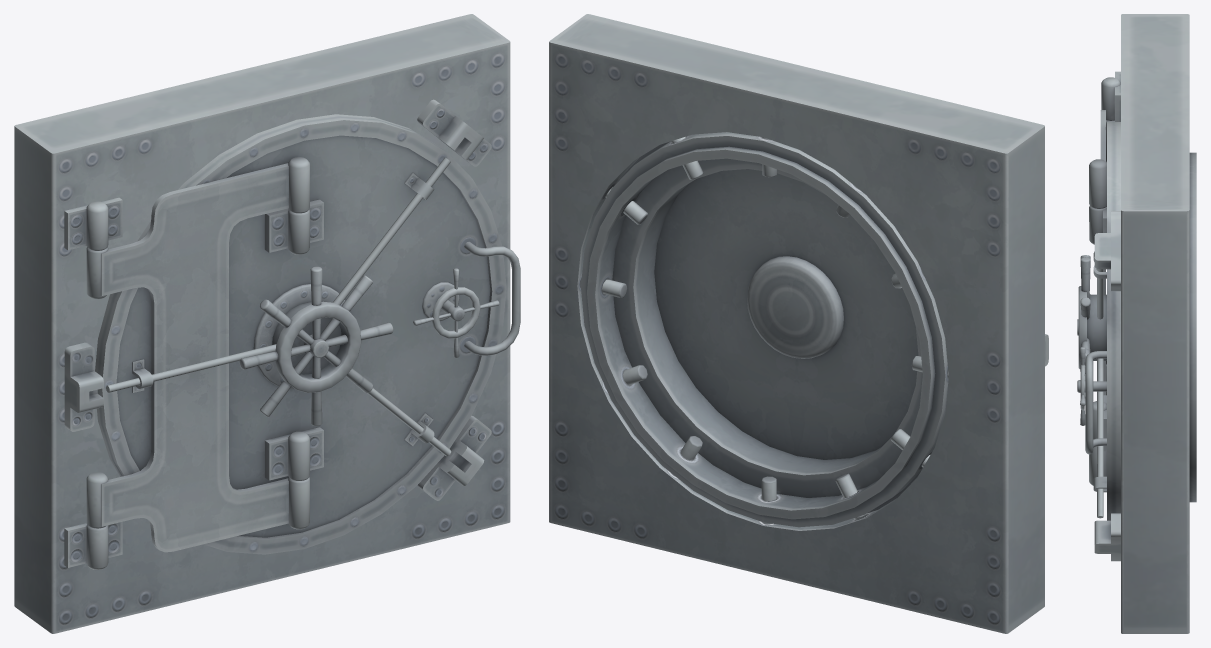
The model's file is BankVaultDoor01_2.FBX.
3 views of the same model, side by side, from view 1: azimuth 30°, elevation 25°; view 2: azimuth 150°, elevation 25°; view 3: azimuth 270°, elevation 25° (orthographic). The views are drawn at different scales.
Parts seen in each view (by area): view 1: Door, Wall; view 2: Wall, Door; view 3: Wall, Door.
Part boxes in pixels (x1,y1,x2,y2): Door: (86,114,520,554); Wall: (14,14,510,633); Wall: (549,14,1048,633); Door: (581,132,948,527); Wall: (1094,14,1189,633); Door: (1077,110,1196,520).
Size of what is drawn, in the model's own units: 3.4 by 3.4 by 0.872.
